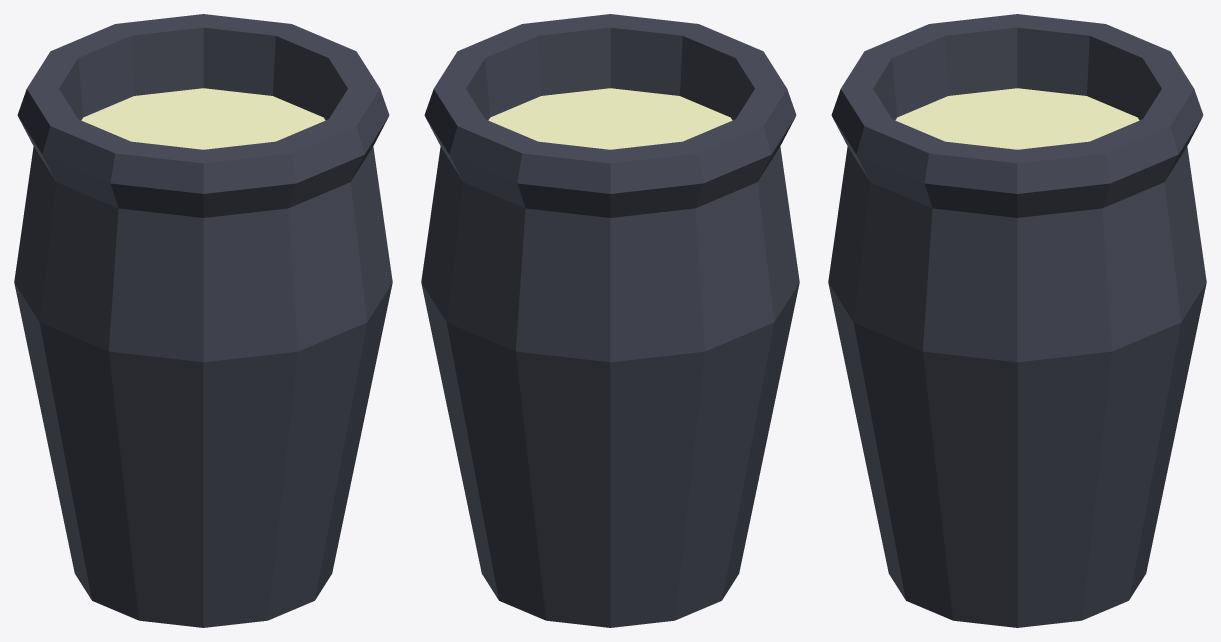
File: Asian_Prop_Rice_Wine_Sake_Pot_Barrel_01.FBX
3 views of the same model, side by side, from view 1: azimuth 30°, elevation 25°; view 2: azimuth 150°, elevation 25°; view 3: azimuth 270°, elevation 25° (orthographic).
Parts seen in each view (by area): view 1: Asian_Prop_Rice_Wine_Sake_Pot_Barrel_01; view 2: Asian_Prop_Rice_Wine_Sake_Pot_Barrel_01; view 3: Asian_Prop_Rice_Wine_Sake_Pot_Barrel_01.
Boxes of the visible parts, <box> form: Asian_Prop_Rice_Wine_Sake_Pot_Barrel_01: <box>14,14,392,627</box>; Asian_Prop_Rice_Wine_Sake_Pot_Barrel_01: <box>421,14,799,627</box>; Asian_Prop_Rice_Wine_Sake_Pot_Barrel_01: <box>828,14,1206,627</box>.
Bounding box in the file's own units: 920 × 1300 × 920.
